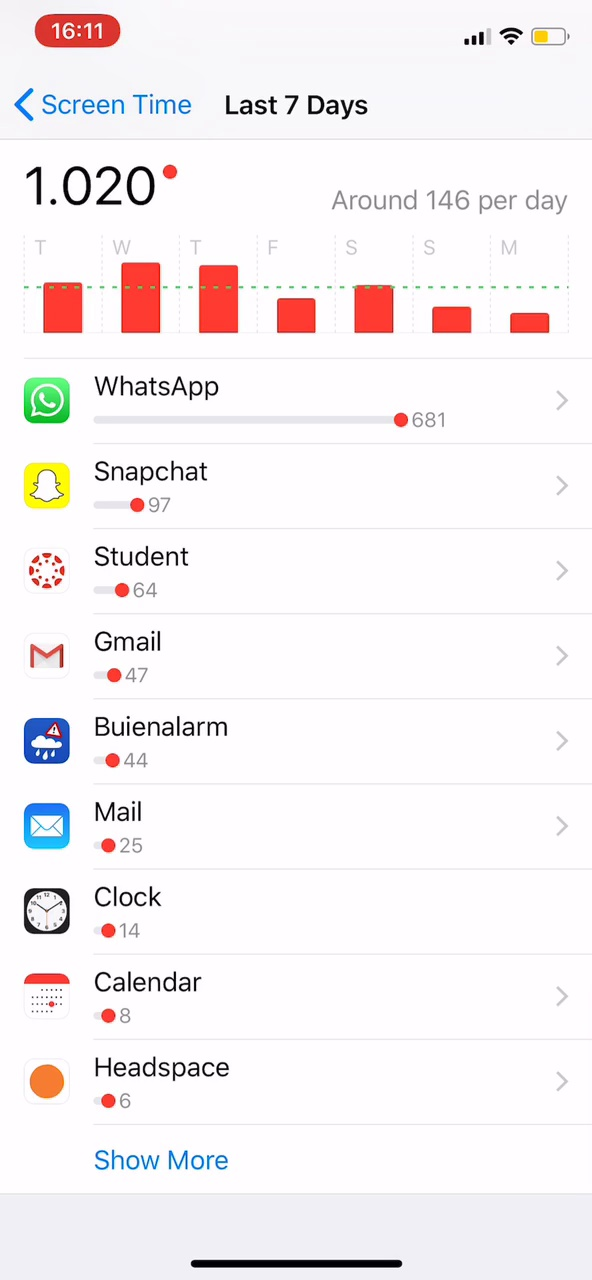not_app: (12, 353, 503, 447), (17, 452, 350, 535), (18, 533, 359, 613), (15, 1041, 314, 1127), (20, 699, 323, 783), (20, 616, 323, 696), (20, 875, 300, 961), (12, 961, 284, 1038), (20, 791, 279, 867)
week: (217, 87, 380, 120)
